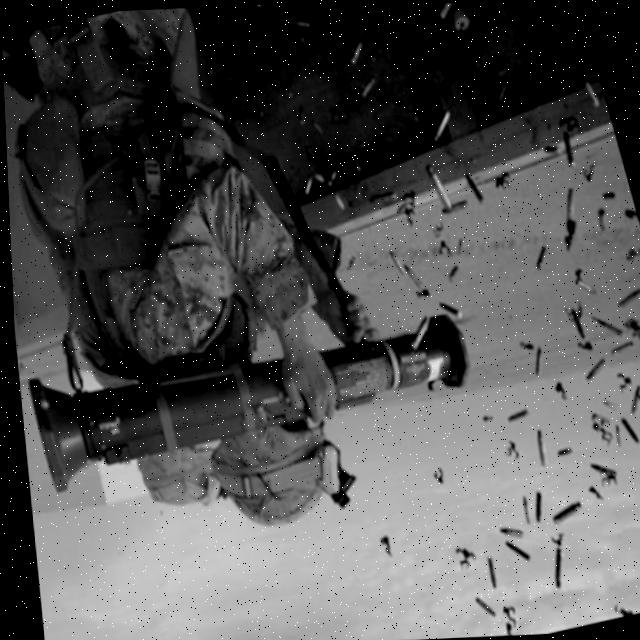rocket: (10, 274, 485, 518)
